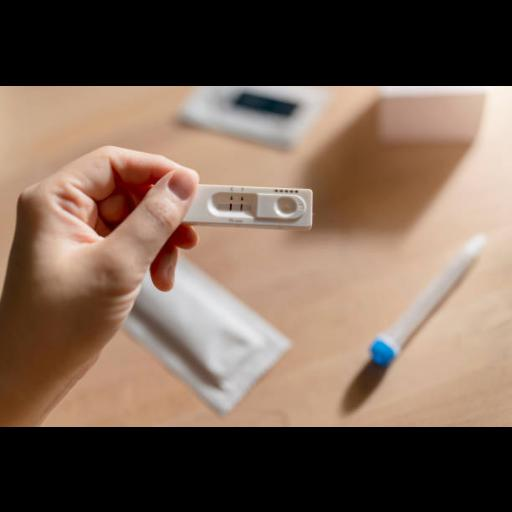Pos: (184, 186, 310, 226)
